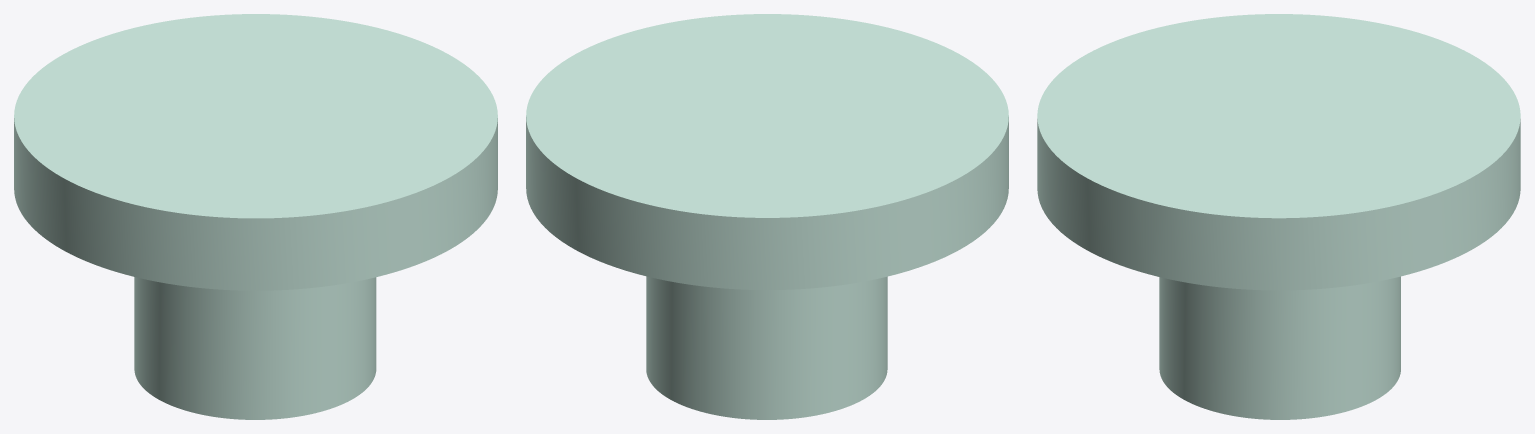
3 views of the same model, side by side, from view 1: azimuth 30°, elevation 25°; view 2: azimuth 150°, elevation 25°; view 3: azimuth 270°, elevation 25° (orthographic).
Parts seen in each view (by area): view 1: Renderer Node; view 2: Renderer Node; view 3: Renderer Node.
Part boxes in pixels (x1=…): Renderer Node: x1=14, y1=14, x2=497, y2=419; Renderer Node: x1=526, y1=14, x2=1008, y2=419; Renderer Node: x1=1037, y1=14, x2=1520, y2=419.
Bounding box in the file's own units: 1.52 × 0.875 × 1.52.
